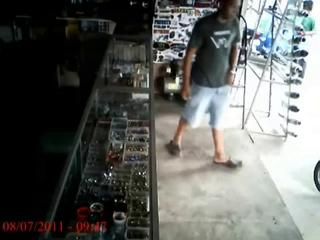Normal: (302, 1, 316, 33)
shoplifting: (166, 0, 242, 168)
